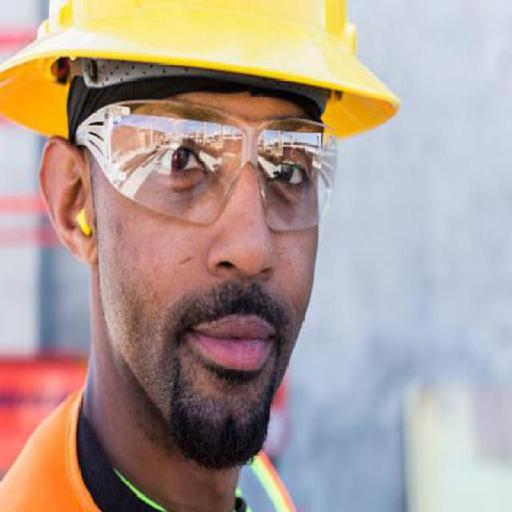glass: (70, 93, 345, 239)
person: (9, 6, 422, 512)
